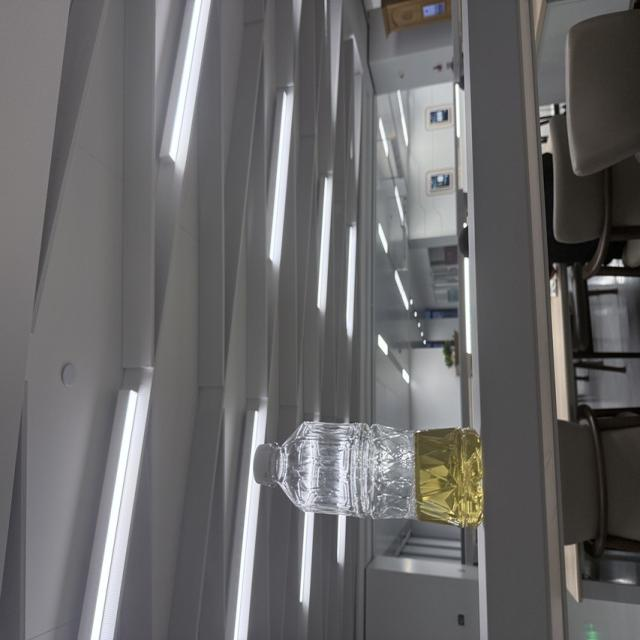low: (254, 422, 482, 526)
